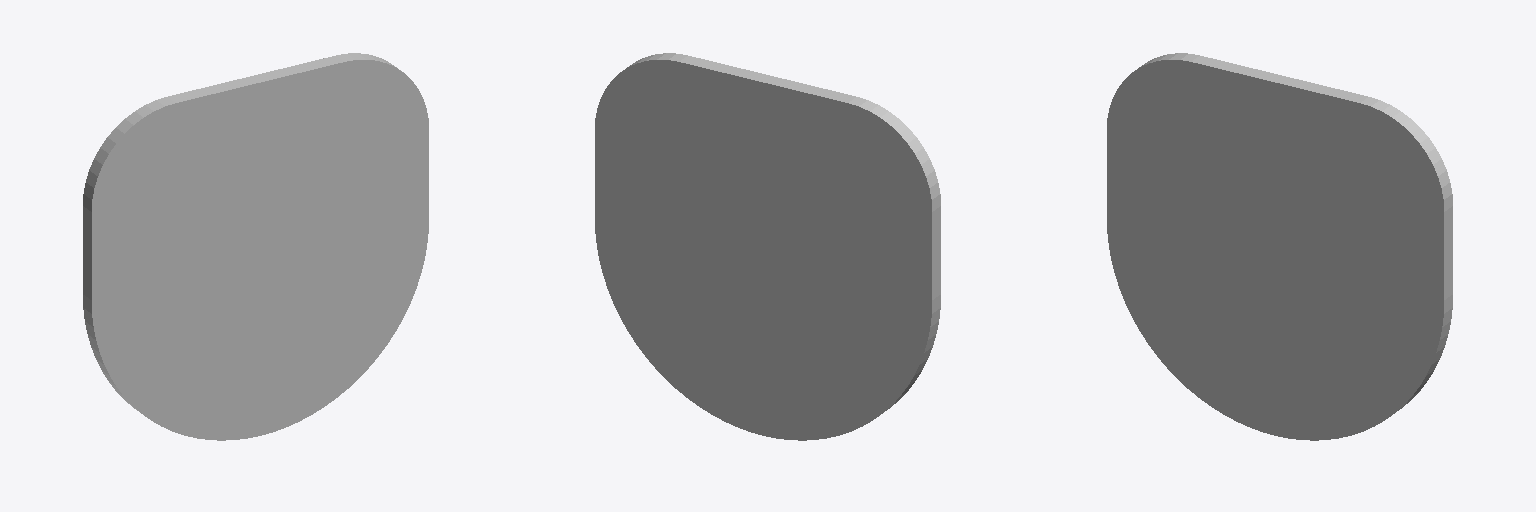
The model's file is Face_Cross.obj.
The picture shows the model from 3 angles: view 1: azimuth 30°, elevation 25°; view 2: azimuth 150°, elevation 25°; view 3: azimuth 330°, elevation 25°; orthographic projection.
Visible parts, largest first — view 1: Plane; view 2: Plane; view 3: Plane.
Part boxes in pixels (bbox=[...]): Plane: bbox=[83, 53, 428, 440]; Plane: bbox=[595, 53, 940, 440]; Plane: bbox=[1107, 53, 1452, 440].
Bounding box in the file's own units: 0.44 × 0.44 × 0.02.